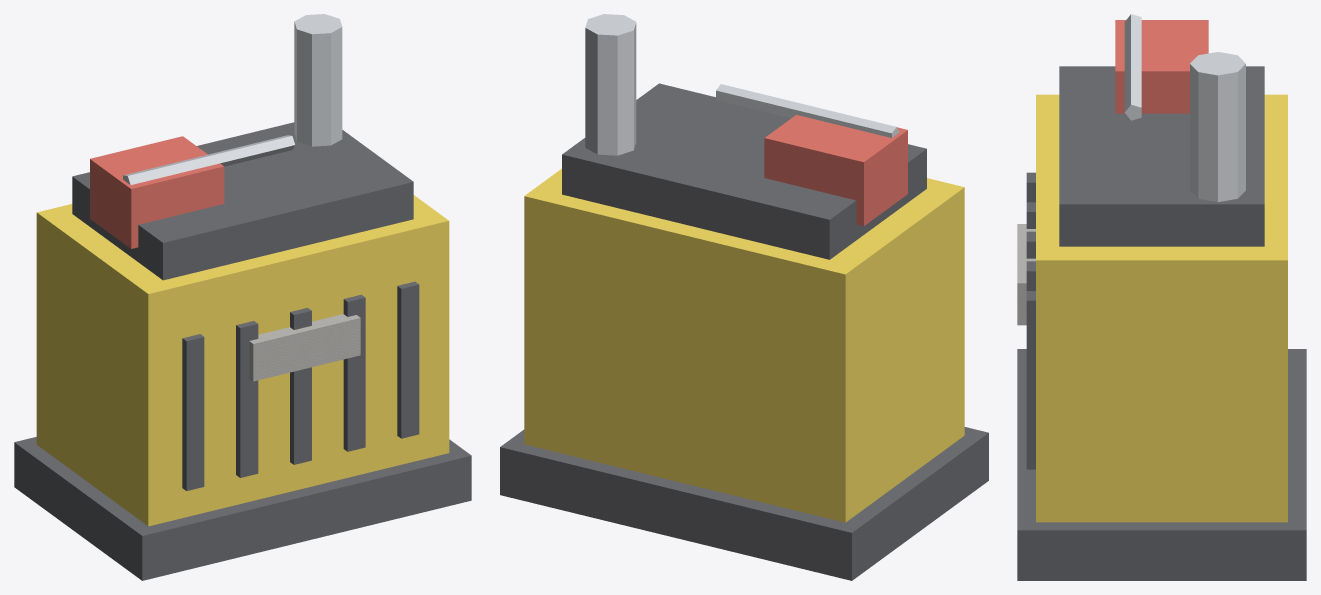
The model's file is street-food-market-and-food-trucks-portable-generator-a151aacc.glb.
3 views of the same model, side by side, from view 1: azimuth 30°, elevation 25°; view 2: azimuth 150°, elevation 25°; view 3: azimuth 270°, elevation 25° (orthographic). The views are drawn at different scales.
Visible parts, largest first — view 1: portable-generator-canary, portable-generator-charcoal, portable-generator-scarlet, portable-generator-steel, portable-generator-concrete; view 2: portable-generator-canary, portable-generator-charcoal, portable-generator-scarlet, portable-generator-steel; view 3: portable-generator-canary, portable-generator-charcoal, portable-generator-steel, portable-generator-scarlet, portable-generator-concrete.
Part boxes in pixels (box(x1,y1,x2,y2)): portable-generator-canary: box(36, 195, 449, 526); portable-generator-charcoal: box(14, 122, 471, 580); portable-generator-scarlet: box(90, 136, 224, 248); portable-generator-steel: box(123, 14, 342, 184); portable-generator-concrete: box(249, 314, 360, 381); portable-generator-canary: box(524, 168, 964, 522); portable-generator-charcoal: box(500, 83, 988, 580); portable-generator-scarlet: box(764, 115, 907, 226); portable-generator-steel: box(585, 14, 899, 155); portable-generator-canary: box(1036, 94, 1287, 522); portable-generator-charcoal: box(1017, 66, 1306, 580); portable-generator-steel: box(1124, 14, 1245, 202); portable-generator-scarlet: box(1115, 20, 1208, 113); portable-generator-concrete: box(1017, 224, 1035, 325).
Bounding box in the file's own units: 0.92 × 1.14 × 0.62.
5 materials, 1 textured.
